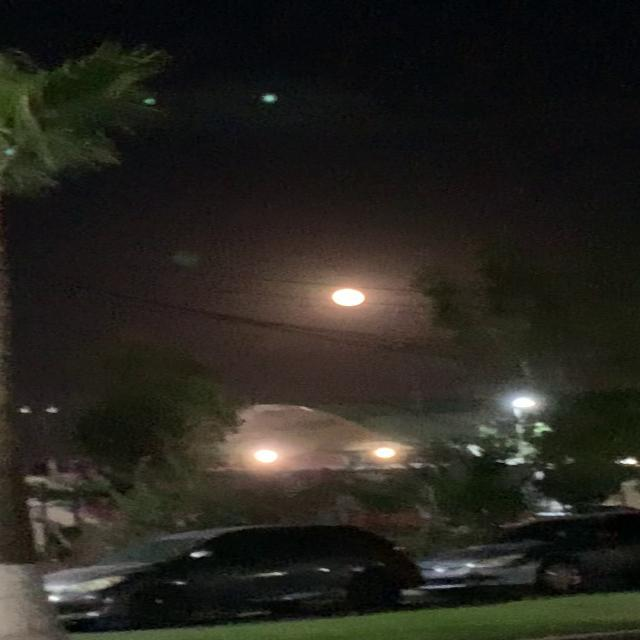moon: (312, 278, 370, 306)
